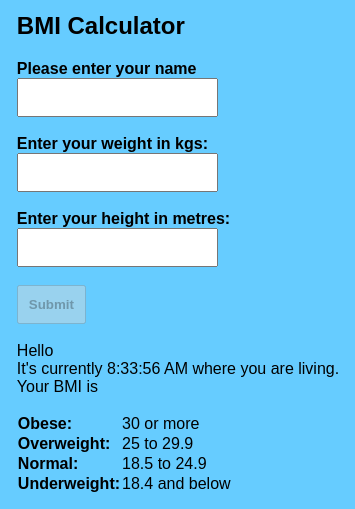
Test case: App › it has a disabled button until both fields have a value
Expected: the button with test id "submit-button" is disabled, 17,285 -> 86,324
Type "Irene" into the field with test id "name-input" at (117, 97), box 17,78 -> 218,117
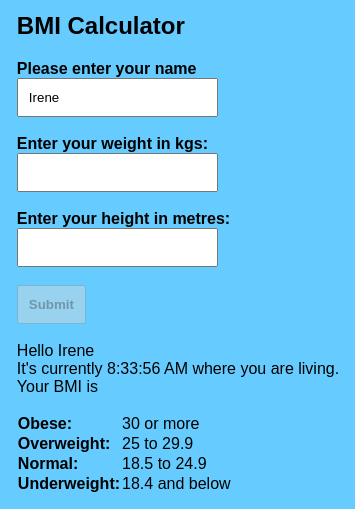
Expected: the button with test id "submit-button" is disabled, 17,285 -> 86,324
Type "24" into the number field with test id "weight-input" at (117, 172), box 17,153 -> 218,192
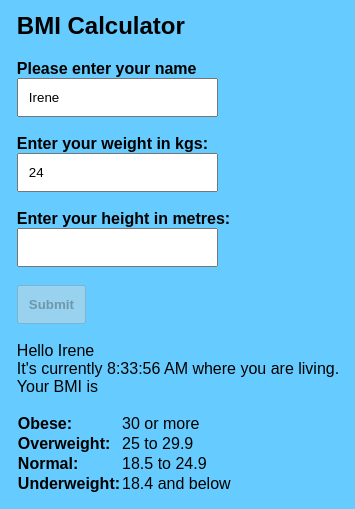
Expected: the button with test id "submit-button" is disabled, 17,285 -> 86,324
Type "1.2" into the number field with test id "height-input" at (117, 247), box 17,228 -> 218,267
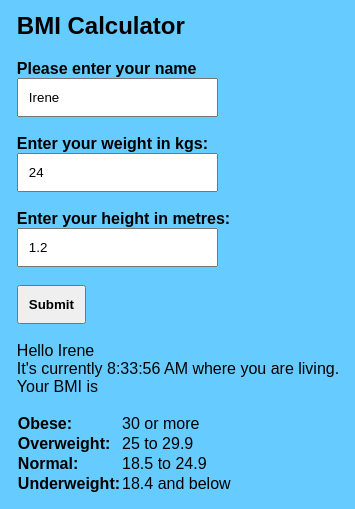
Expected: the button with test id "submit-button" is enabled, 17,285 -> 86,324
